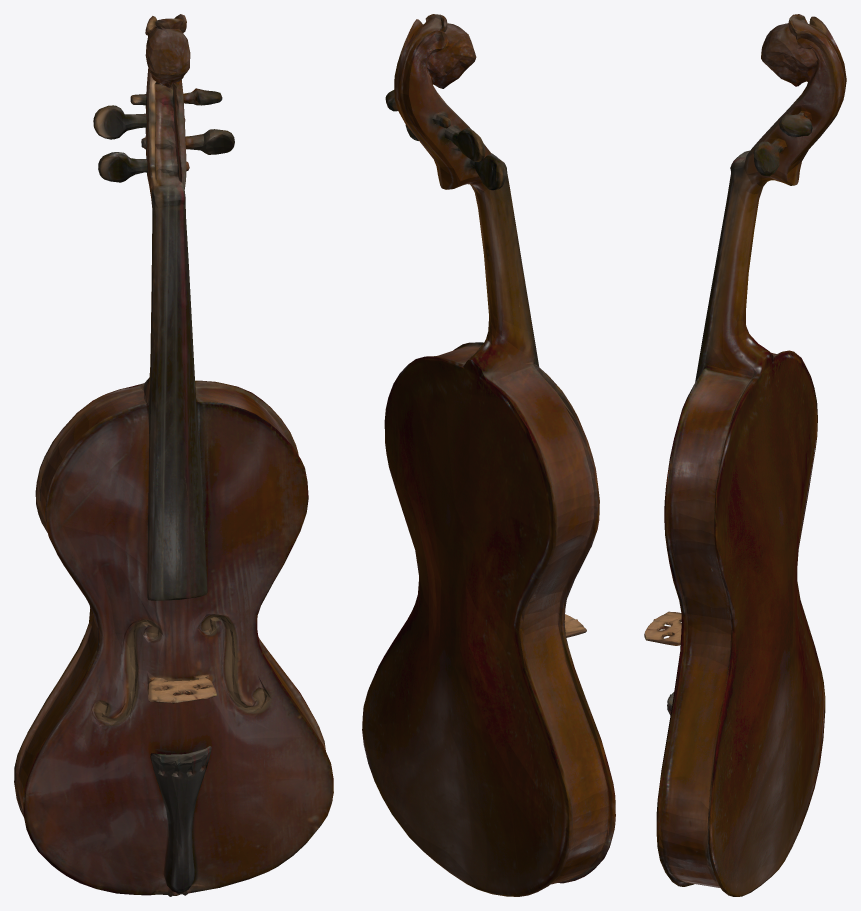
The picture shows the model from 3 angles, left to right: view 1: azimuth 30°, elevation 25°; view 2: azimuth 150°, elevation 25°; view 3: azimuth 270°, elevation 25°; orthographic projection. The views are drawn at different scales.
Visible parts, largest first — view 1: Geige_7k_2k; view 2: Geige_7k_2k; view 3: Geige_7k_2k.
Part boxes in pixels (x1,y1,x2,y2): Geige_7k_2k: [14, 14, 333, 896]; Geige_7k_2k: [362, 14, 615, 896]; Geige_7k_2k: [644, 14, 846, 896].
Bounding box in the file's own units: 0.208 × 0.619 × 0.1295.
Materials: 1 (1 with a texture image).
